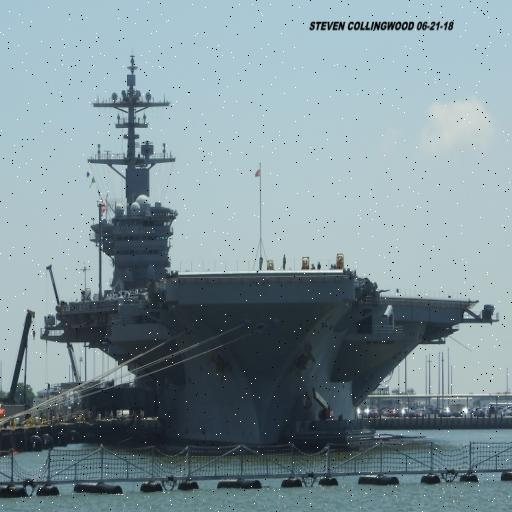Portanaves: (40, 25, 503, 461)
